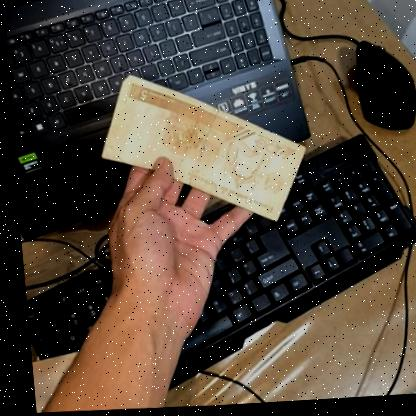twenty-back-vef: (90, 65, 311, 234)
